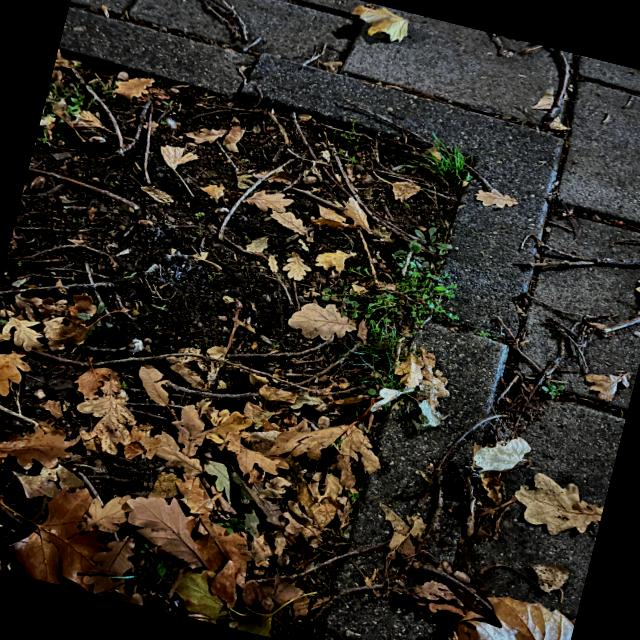leaves: (462, 442, 610, 552), (446, 581, 567, 640), (336, 7, 412, 51), (590, 355, 628, 408)
pavement: (60, 0, 639, 382), (339, 368, 621, 639)
plants: (0, 55, 464, 640)
